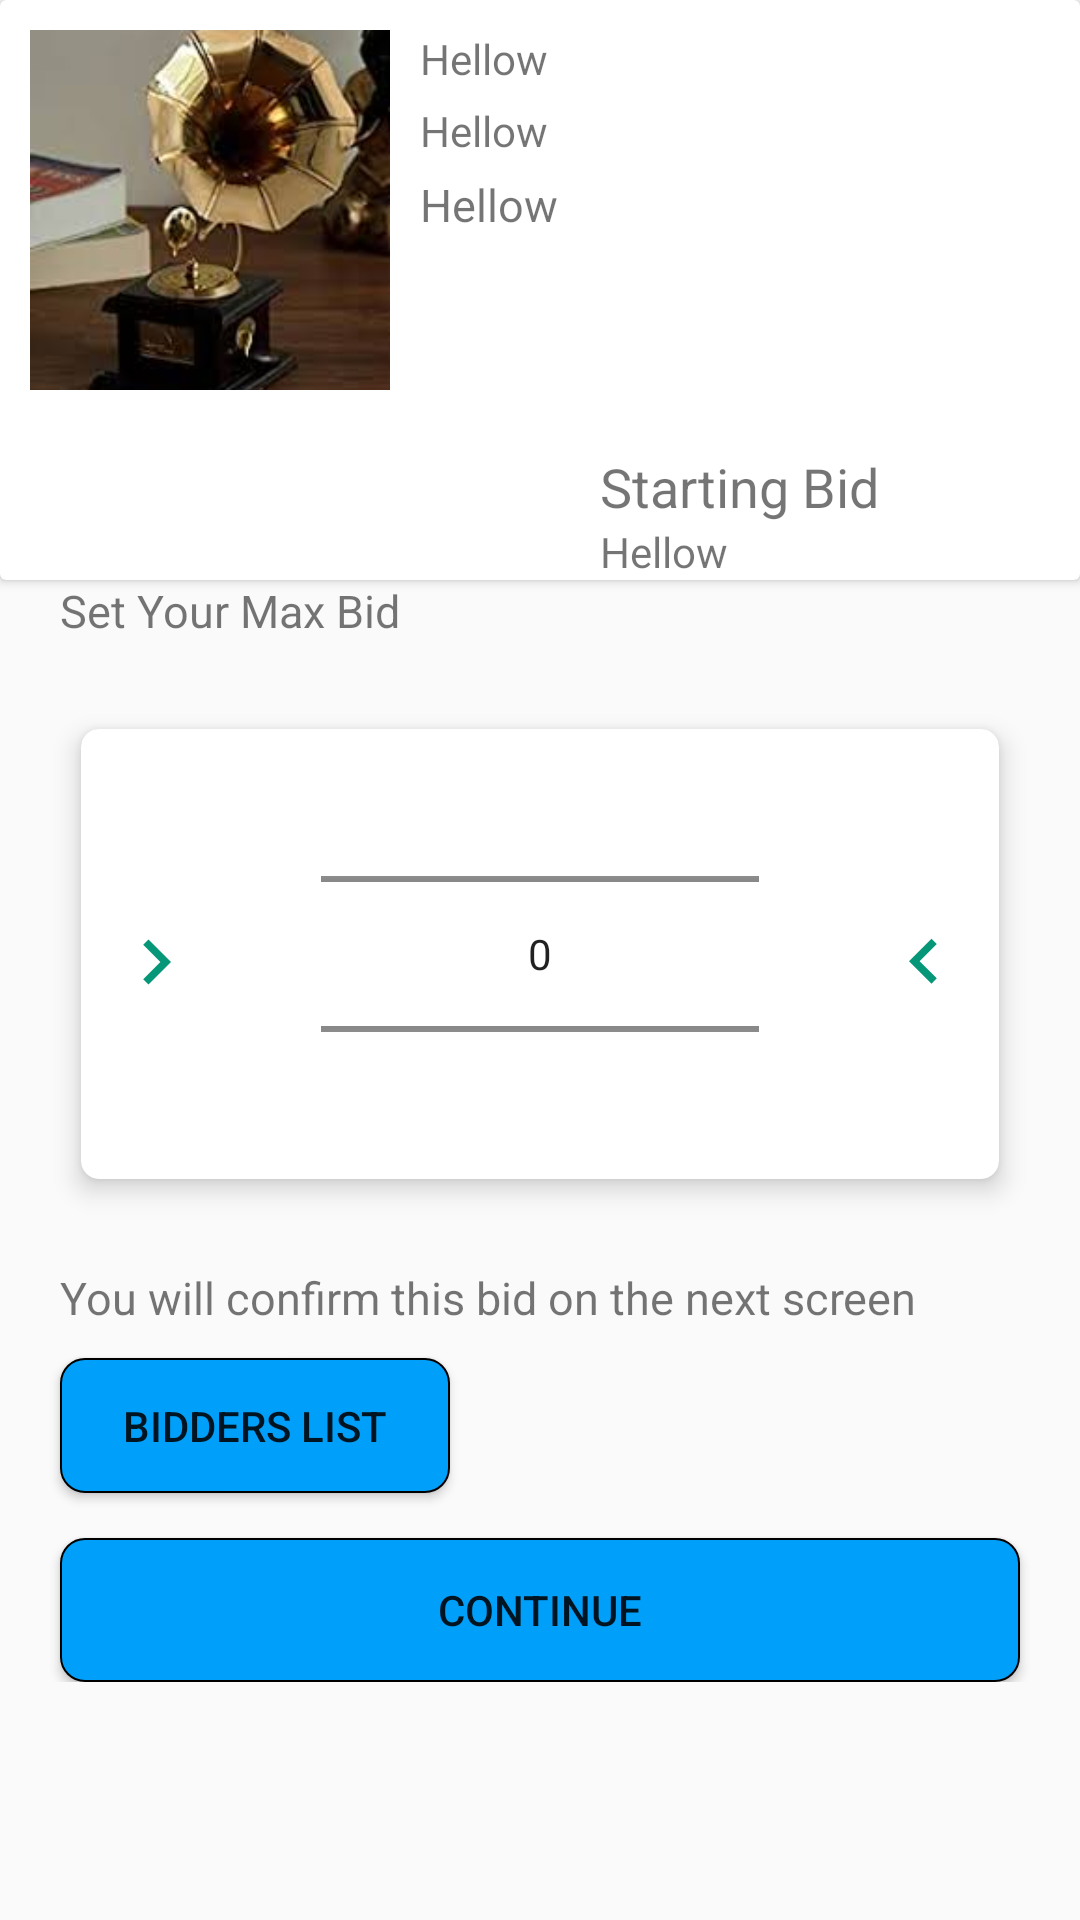

Locate icon controls on the screen. Image size 1080 × 1920, boxes as region(x1, y1, x2, y2).
left angle: region(909, 939, 937, 984)
right angle: region(143, 939, 171, 985)
